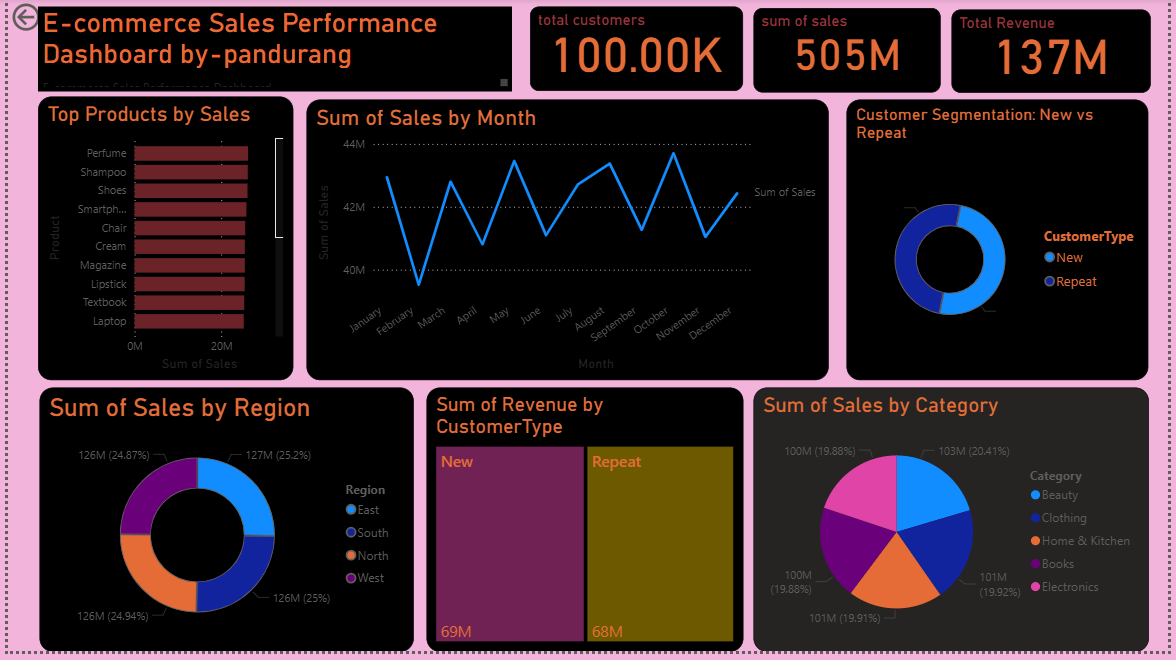

What the dashboard file says about the page in this screenshot:
{"tool":"powerbi","page":{"name":"Page 1","canvas":[1280,720],"ordinal":0},"visuals":[{"type":"card","title":"sum of sales","fields":{"Values":["ecommerce_processed.Sales"]},"box":[823.3,10,206.7,93.3],"z":0},{"type":"card","title":"total customers","fields":{"Values":["ecommerce_processed.OrderID"]},"box":[576.7,8.3,235,93.3],"z":1000},{"type":"actionButton","box":[0,0,100,40],"z":2000},{"type":"donutChart","fields":{"Category":["ecommerce_processed.Region"],"Y":["ecommerce_processed.Sales"]},"box":[35,428.3,413.3,291.7],"z":3000},{"type":"textbox","title":"E-commerce Sales Performance Dashboard by-pandurang","box":[33.3,8.3,523.3,93.3],"z":4000},{"type":"pieChart","fields":{"Category":["ecommerce_processed.Category"],"Y":["ecommerce_processed.Sales"]},"box":[823.3,428.3,436.7,291.7],"z":5000},{"type":"lineChart","fields":{"Category":["ecommerce_processed.OrderDate.Variation.Date Hierarchy.Month"],"Y":["ecommerce_processed.Sales"]},"box":[330,111.7,576.7,310],"z":6000},{"type":"clusteredBarChart","title":"Top  Products by Sales","fields":{"Category":["ecommerce_processed.Product"],"Y":["ecommerce_processed.Sales"]},"box":[33.3,108.3,281.7,313.3],"z":7000},{"type":"donutChart","title":"Customer Segmentation: New vs Repeat","fields":{"Category":["ecommerce_processed.CustomerType"],"Y":["ecommerce_processed.CustomerID"]},"box":[926.7,111.7,333.3,310],"z":8000},{"type":"treemap","fields":{"Group":["ecommerce_processed.CustomerType"],"Values":["ecommerce_processed.Revenue"]},"box":[461.7,428.3,350,291.7],"z":9000},{"type":"card","title":"Total Revenue","fields":{"Values":["ecommerce_processed.Revenue"]},"box":[1041.7,11.7,220,91.7],"z":10000}]}

Visuals, with their boxes in screenshot pixels (x1, y1, x2, y2), scaled from the page's 1280x720 canvas onto the 1176x660 screenshot:
"sum of sales" card: box(756, 9, 946, 95)
"total customers" card: box(530, 8, 746, 93)
actionButton: box(0, 0, 92, 37)
donutChart - ecommerce_processed.Region x ecommerce_processed.Sales: box(32, 393, 412, 659)
"E-commerce Sales Performance Dashboard by-pandurang" textbox: box(31, 8, 511, 93)
pieChart - ecommerce_processed.Category x ecommerce_processed.Sales: box(756, 393, 1158, 659)
lineChart - ecommerce_processed.OrderDate.Variation.Date Hierarchy.Month x ecommerce_processed.Sales: box(303, 102, 833, 387)
"Top  Products by Sales" clusteredBarChart: box(31, 99, 289, 386)
"Customer Segmentation: New vs Repeat" donutChart: box(851, 102, 1158, 387)
treemap - ecommerce_processed.CustomerType x ecommerce_processed.Revenue: box(424, 393, 746, 659)
"Total Revenue" card: box(957, 11, 1159, 95)
